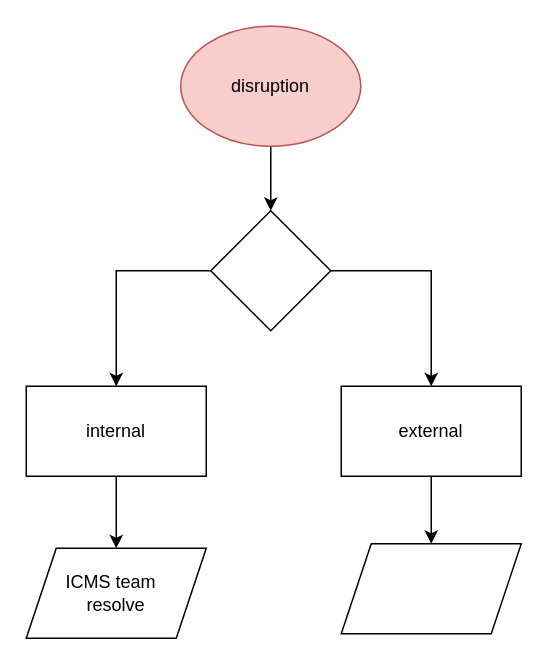
Some shapes in this 548 by 665 pixel diagram are drawn without their labels. Each missing label, with the box of its shape:
assesment: (209, 209, 331, 331)
pembuatan ticket PDN: (340, 542, 521, 634)
